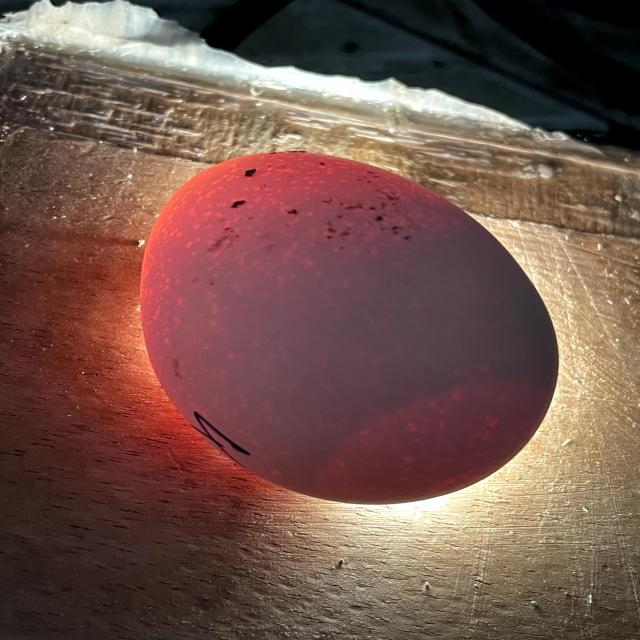fertile: (142, 152, 558, 504)
